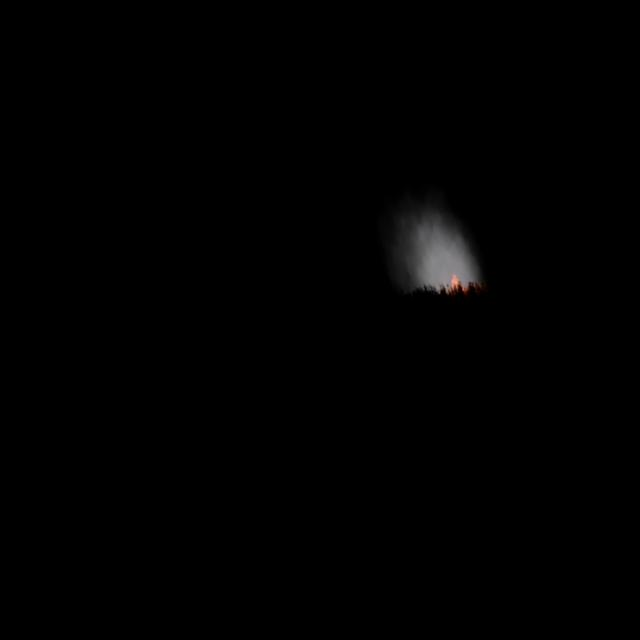fire: (447, 271, 463, 293)
smoke: (372, 170, 488, 314)
